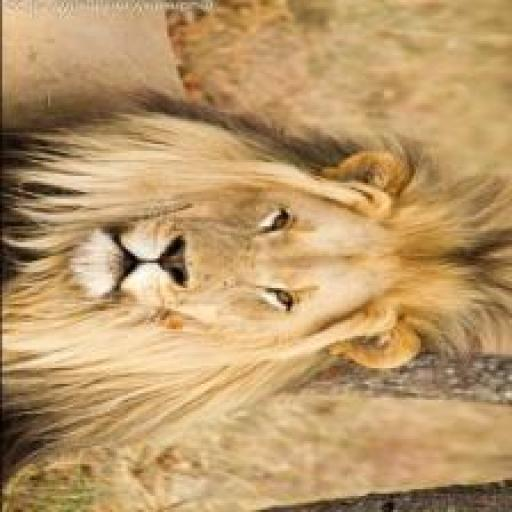lion: (0, 77, 506, 468)
